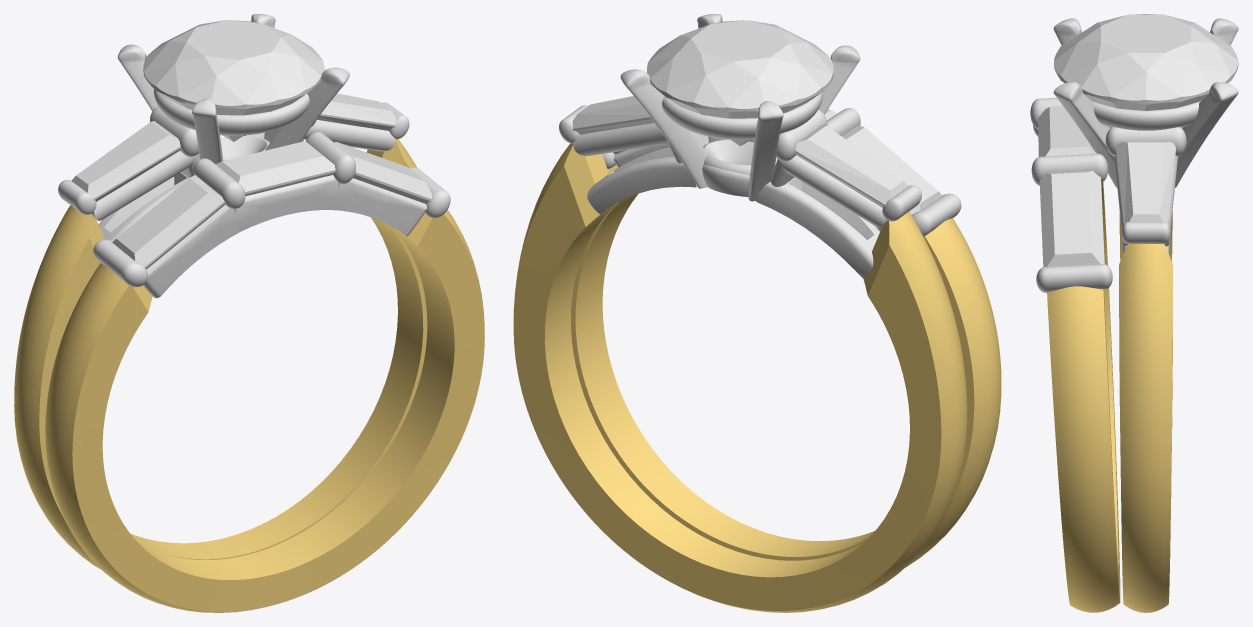
File: Abby3stoneBOTH_blender.glb
3 views of the same model, side by side, from view 1: azimuth 30°, elevation 25°; view 2: azimuth 150°, elevation 25°; view 3: azimuth 270°, elevation 25° (orthographic). The views are drawn at different scales.
Parts seen in each view (by area): view 1: v2 Abby 3 stone YG for 3d model, Abby YG both for 3d model, v2 Abby 3 stone PT for 3d model, Abby round dia both for 3d model, v2 Abby 3 stone dia baguette for 3d model, Abby baguette dia both for 3d model, v2 Abby 3 stone dia baguette for 3d model.002, Abby PT both for 3d model.025, v2 Abby 3 stone dia baguette for 3d model.001, Abby PT both for 3d model.033, Abby PT both for 3d model.028, Abby baguette dia both for 3d model.001 (+7 smaller); view 2: Abby YG both for 3d model, v2 Abby 3 stone YG for 3d model, Abby round dia both for 3d model, Abby PT both for 3d model.040, Abby baguette dia both for 3d model, Abby PT both for 3d model.024, Abby PT both for 3d model.027, Abby PT both for 3d model.025, v2 Abby 3 stone PT for 3d model, Abby PT both for 3d model.033, Abby PT both for 3d model.030, v2 Abby 3 stone dia baguette for 3d model (+7 smaller); view 3: v2 Abby 3 stone YG for 3d model, Abby YG both for 3d model, Abby round dia both for 3d model, v2 Abby 3 stone dia baguette for 3d model.001, Abby baguette dia both for 3d model.001, v2 Abby 3 stone PT for 3d model, Abby PT both for 3d model.027, Abby PT both for 3d model.025, v2 Abby 3 stone dia baguette for 3d model.002, Abby PT both for 3d model.028, Abby PT both for 3d model.035, Abby PT both for 3d model.037 (+3 smaller).
Part boxes in pixels (left/top/right/bottom): v2 Abby 3 stone YG for 3d model: left=45, top=210, right=484, bottom=612; Abby YG both for 3d model: left=14, top=139, right=427, bottom=569; v2 Abby 3 stone PT for 3d model: left=93, top=131, right=450, bottom=298; Abby round dia both for 3d model: left=143, top=20, right=324, bottom=141; v2 Abby 3 stone dia baguette for 3d model: left=112, top=175, right=225, bottom=269; Abby baguette dia both for 3d model: left=71, top=121, right=180, bottom=201; v2 Abby 3 stone dia baguette for 3d model.002: left=216, top=141, right=335, bottom=196; Abby PT both for 3d model.025: left=153, top=89, right=309, bottom=135; v2 Abby 3 stone dia baguette for 3d model.001: left=334, top=142, right=432, bottom=203; Abby PT both for 3d model.033: left=91, top=151, right=193, bottom=220; Abby PT both for 3d model.028: left=265, top=67, right=349, bottom=150; Abby baguette dia both for 3d model.001: left=317, top=93, right=396, bottom=130; Abby YG both for 3d model: left=513, top=143, right=967, bottom=612; v2 Abby 3 stone YG for 3d model: left=571, top=165, right=1001, bottom=567; Abby round dia both for 3d model: left=647, top=20, right=833, bottom=146; Abby PT both for 3d model.040: left=756, top=177, right=879, bottom=278; Abby baguette dia both for 3d model: left=795, top=124, right=907, bottom=207; Abby PT both for 3d model.024: left=587, top=147, right=697, bottom=214; Abby PT both for 3d model.027: left=620, top=69, right=707, bottom=188; Abby PT both for 3d model.025: left=662, top=92, right=822, bottom=139; v2 Abby 3 stone PT for 3d model: left=602, top=108, right=961, bottom=236; Abby PT both for 3d model.033: left=781, top=155, right=887, bottom=227; Abby PT both for 3d model.030: left=748, top=101, right=783, bottom=201; v2 Abby 3 stone dia baguette for 3d model: left=841, top=125, right=941, bottom=214; v2 Abby 3 stone YG for 3d model: left=1047, top=182, right=1120, bottom=612; Abby YG both for 3d model: left=1119, top=213, right=1172, bottom=612; Abby round dia both for 3d model: left=1054, top=14, right=1238, bottom=110; v2 Abby 3 stone dia baguette for 3d model.001: left=1039, top=170, right=1104, bottom=267; Abby baguette dia both for 3d model.001: left=1116, top=142, right=1176, bottom=223; v2 Abby 3 stone PT for 3d model: left=1030, top=97, right=1112, bottom=292; Abby PT both for 3d model.027: left=1175, top=82, right=1238, bottom=187; Abby PT both for 3d model.025: left=1091, top=100, right=1201, bottom=130; v2 Abby 3 stone dia baguette for 3d model.002: left=1038, top=106, right=1096, bottom=156; Abby PT both for 3d model.028: left=1053, top=82, right=1117, bottom=187; Abby PT both for 3d model.035: left=1105, top=127, right=1186, bottom=156; Abby PT both for 3d model.037: left=1121, top=222, right=1170, bottom=243.
Size of the model in its own units: 20.52 by 24.96 by 8.48.
